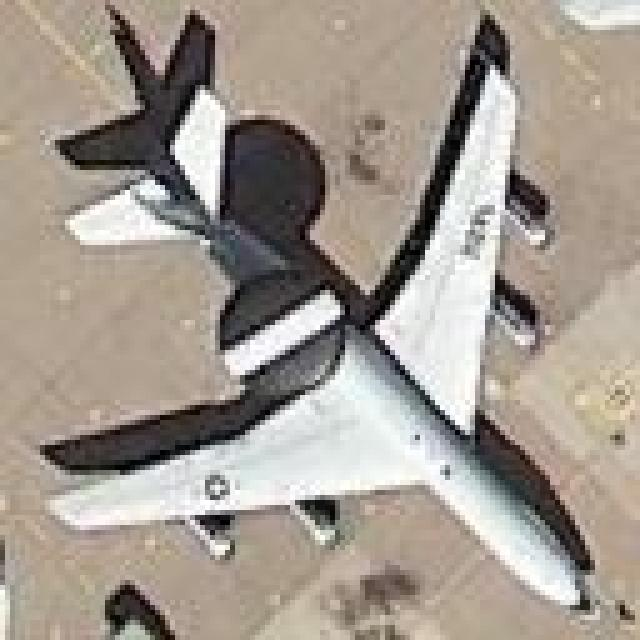E-3_TopDown: (35, 0, 605, 620)
